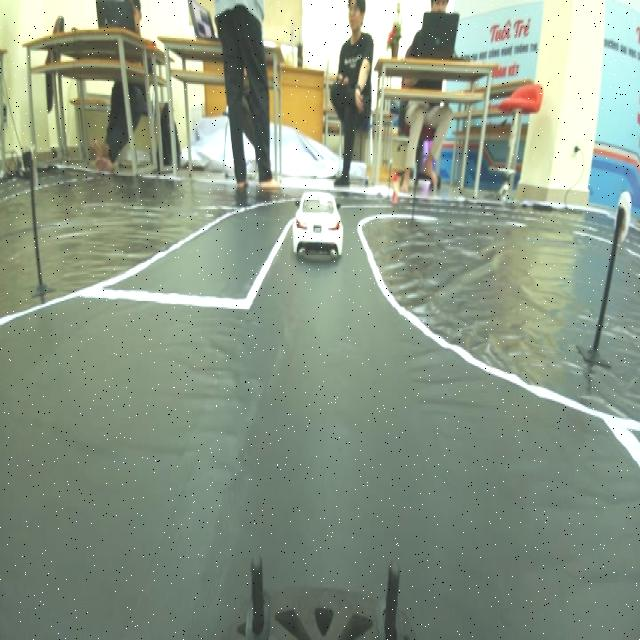car: (289, 169, 344, 252)
